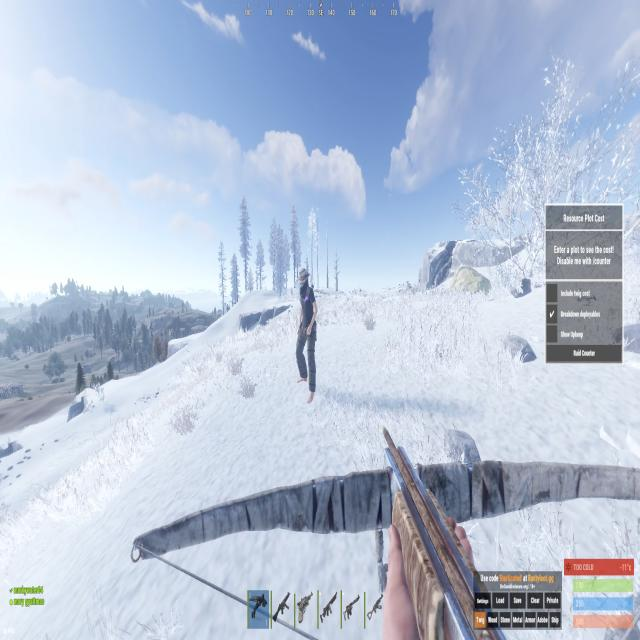Player: (295, 266, 318, 405)
